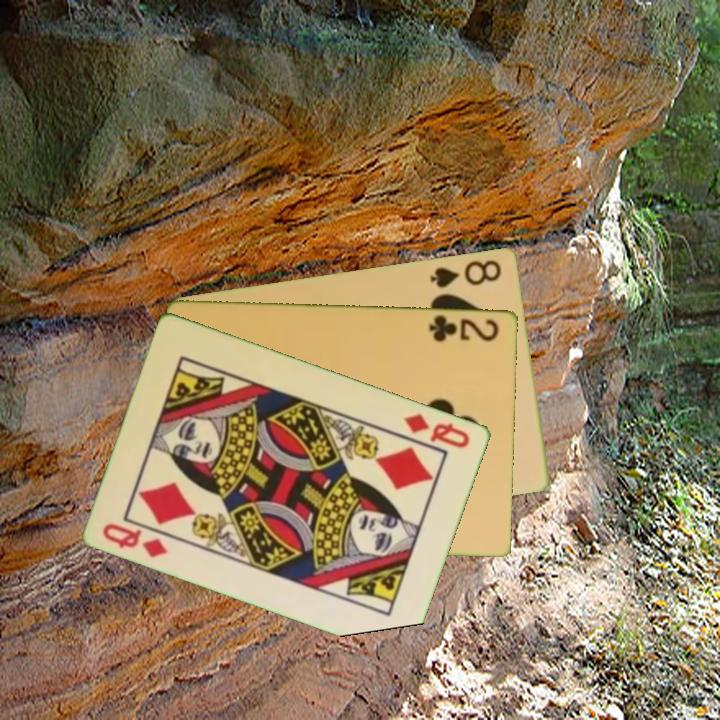2c: (426, 311, 502, 344)
8s: (426, 256, 505, 290)
Qd: (400, 409, 473, 451), (99, 519, 171, 560)
